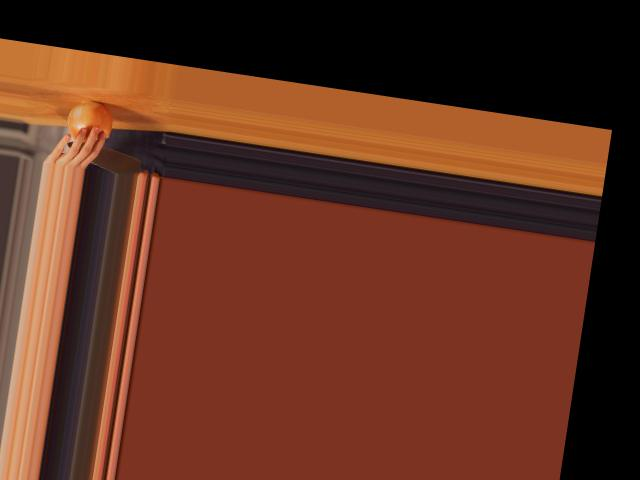onion: (65, 97, 115, 147)
